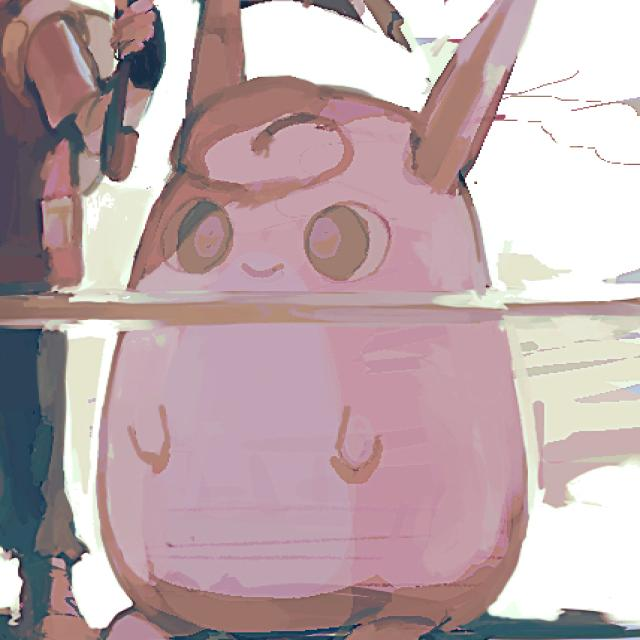Wigglytuff: (132, 59, 515, 574)
